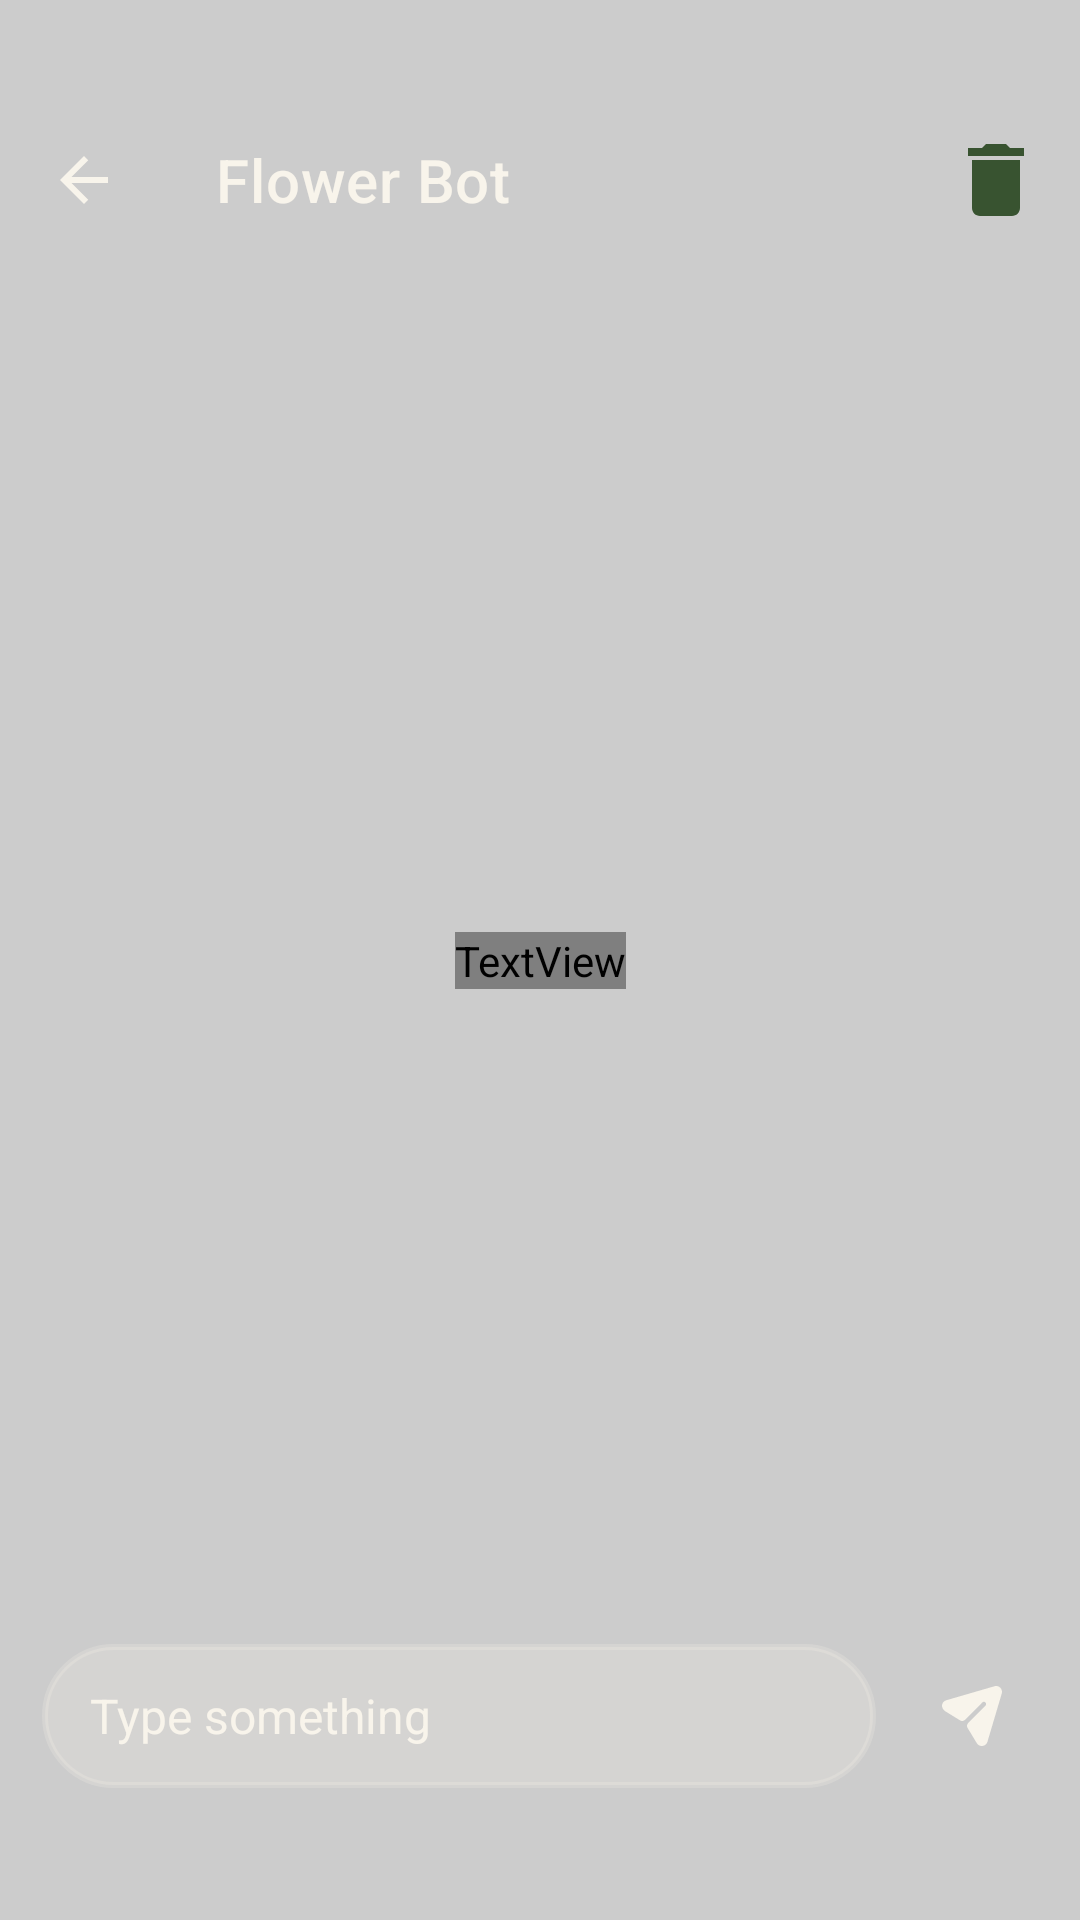

Named icons in this screenshot (1080*1920) and their bounding boxes, (x1, y1, x2, y2):
delete: (968, 144, 1024, 216)
send: (942, 1686, 1002, 1746)
